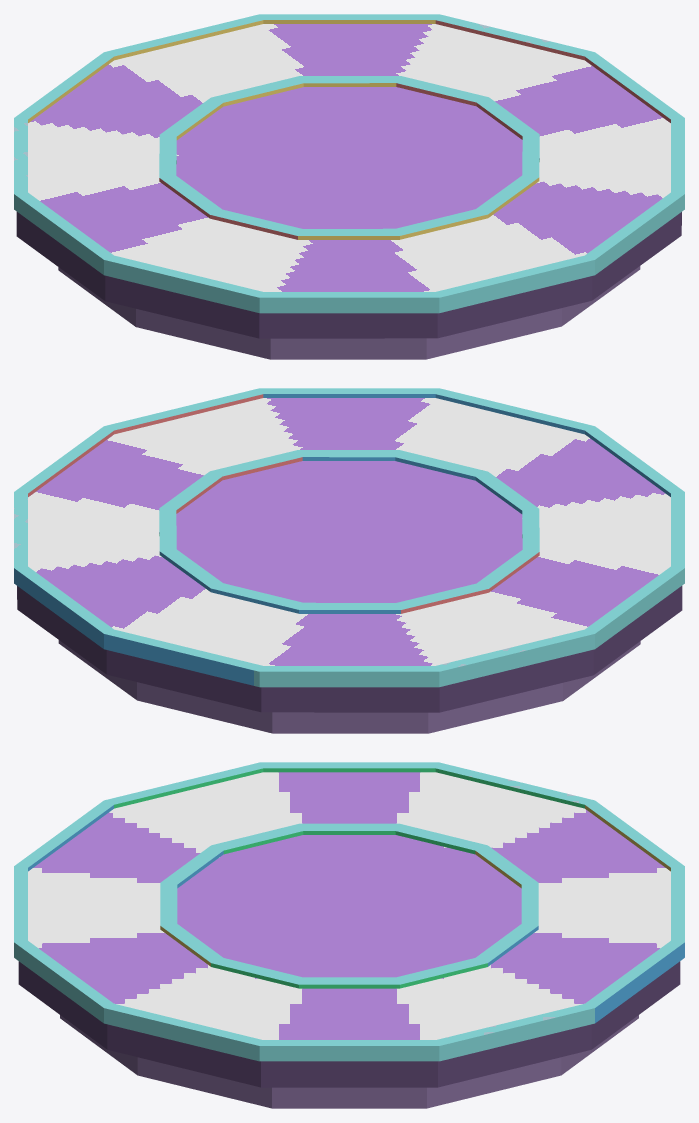
File: bounce_pad_small.gltf
The picture shows the model from 3 angles, top to bottom: view 1: azimuth 30°, elevation 25°; view 2: azimuth 150°, elevation 25°; view 3: azimuth 270°, elevation 25°; orthographic projection.
Visible parts, largest first — view 1: tube; view 2: tube; view 3: tube.
Part boxes in pixels (box(x1,y1,x2,y2)): tube: box(14, 14, 684, 359); tube: box(14, 388, 684, 733); tube: box(14, 762, 684, 1108).
Size of the model in its own units: 0.9375 by 0.125 by 0.9375.
Materials: 1 (1 with a texture image).
